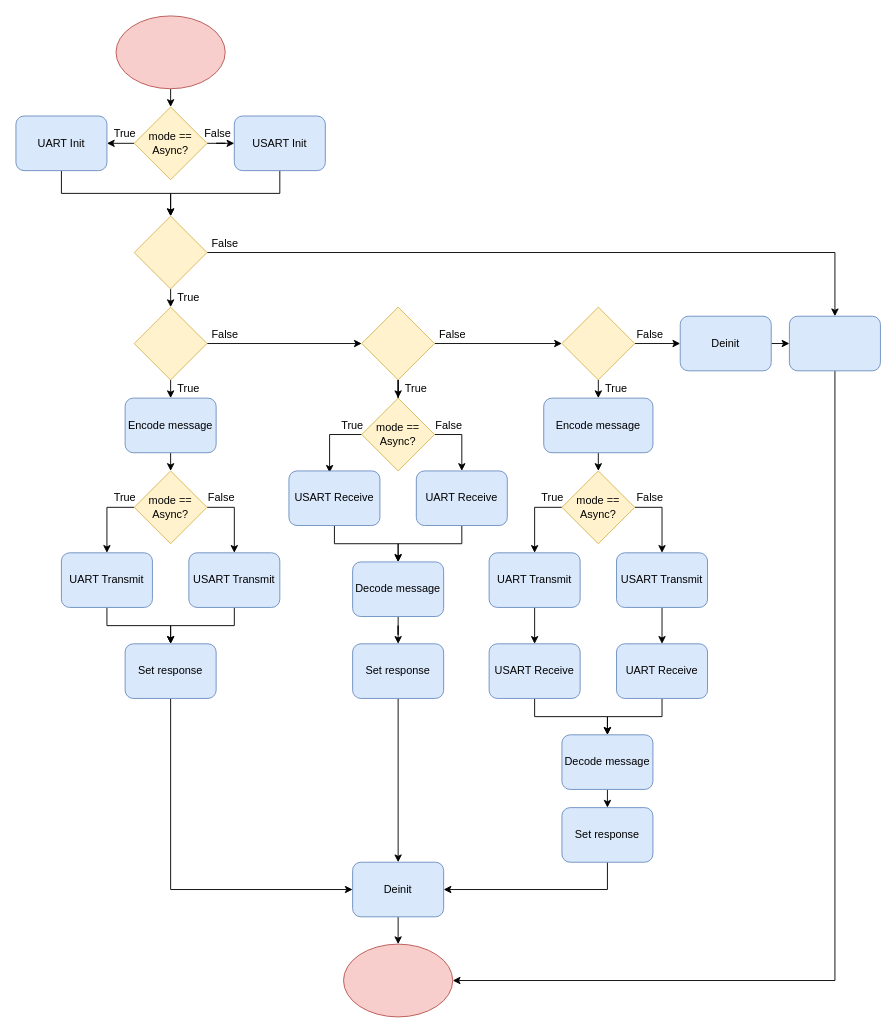
The diagram is 896 pixels wide and 1033 high, and some of its shapes have lost their labels. The shapes that lost their labels are listed below. From the top down, each one's centre as x and y in pixels, then its label:
At point (170, 52): "Start".
At point (170, 252): "Success?".
At point (170, 343): "direction == Tx?".
At point (398, 343): "direction == Rx?".
At point (598, 343): "direction == Tx+Rx?".
At point (834, 343): "Error handler".
At point (398, 980): "Stop".
